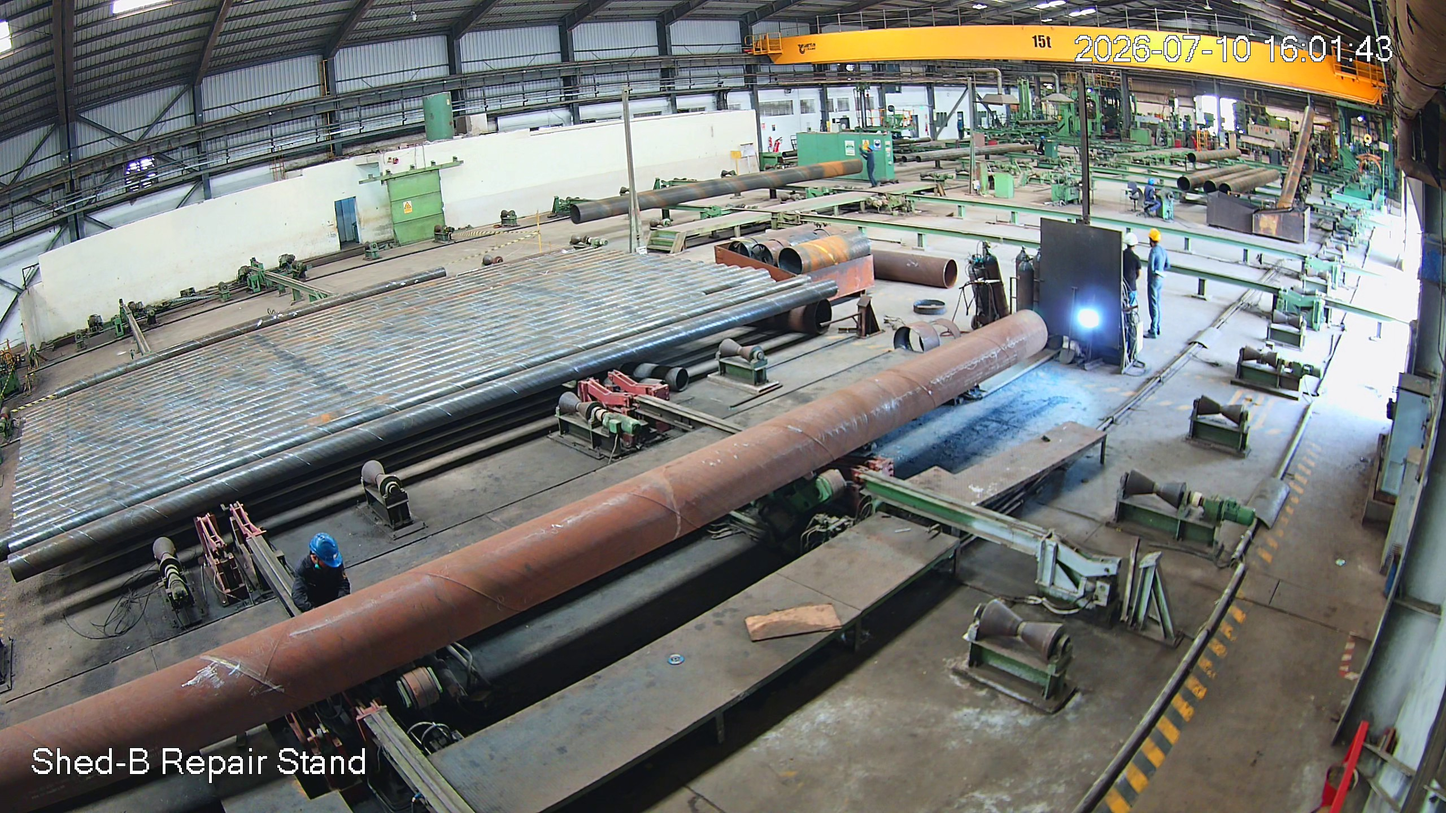Helmet: (306, 529, 347, 580), (1120, 227, 1141, 255), (1143, 225, 1164, 249)
Person: (268, 541, 362, 611), (1143, 228, 1173, 344), (1123, 229, 1141, 316)
